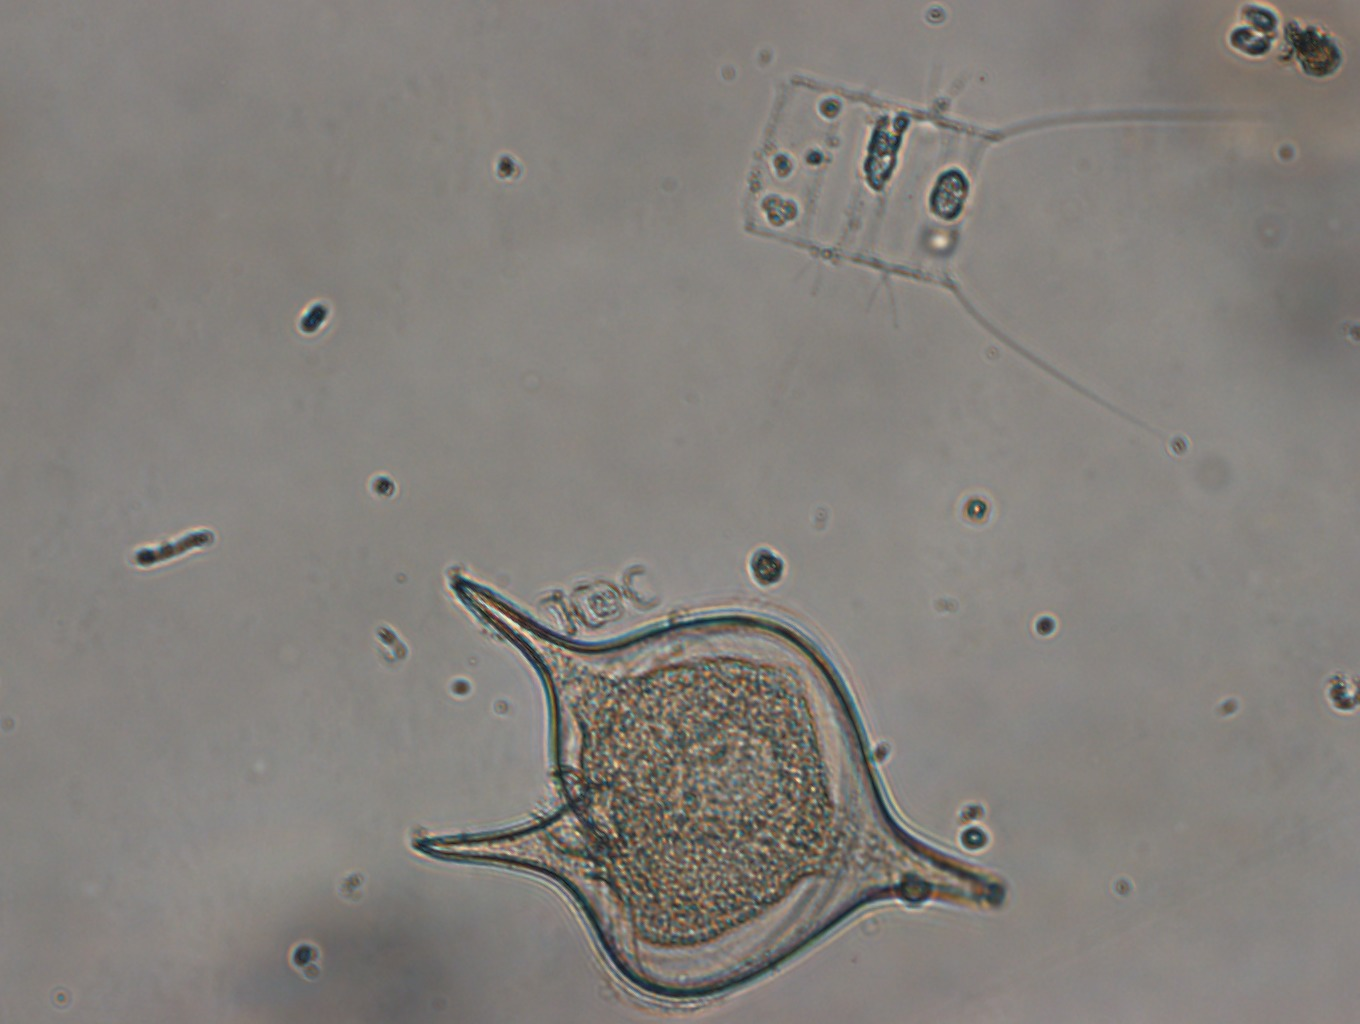protoperidinium: (410, 552, 1004, 1008)
